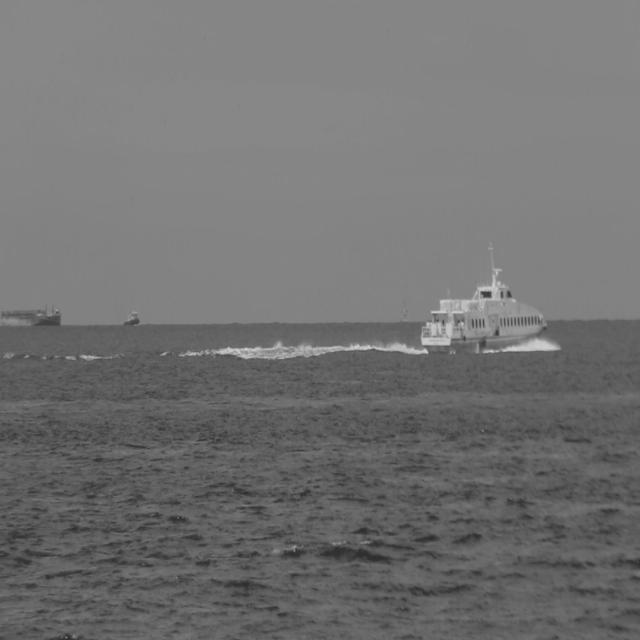ship: (416, 246, 550, 358), (1, 301, 62, 327)
